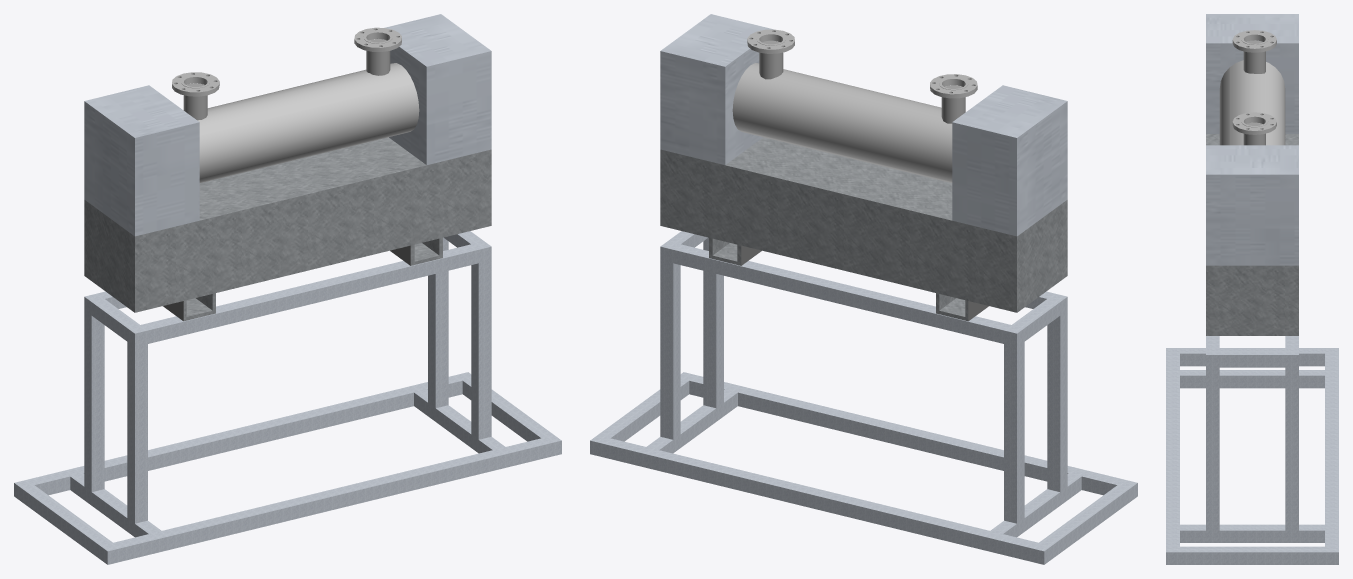
File: stage4_1.glb
The picture shows the model from 3 angles, left to right: view 1: azimuth 30°, elevation 25°; view 2: azimuth 150°, elevation 25°; view 3: azimuth 270°, elevation 25°; orthographic projection. The views are drawn at different scales.
Parts seen in each view (by area): view 1: object 2, object 1, RFSO#2 (×2); view 2: object 2, object 1, RFSO#2 (×2), object 5; view 3: object 2, object 1, RFSO#2 (×2), object 3, object 5.
Boxes of the visible parts, x1,y1,x2,y2 form: object 2: (84, 14, 491, 321); object 1: (14, 231, 561, 564); RFSO#2 (×2): (172, 27, 401, 96); object 2: (660, 14, 1067, 321); object 1: (590, 231, 1137, 564); RFSO#2 (×2): (747, 29, 977, 98); object 5: (759, 40, 783, 79); object 2: (1206, 14, 1298, 335); object 1: (1166, 336, 1338, 564); RFSO#2 (×2): (1232, 30, 1276, 134); object 3: (1243, 40, 1265, 73); object 5: (1243, 122, 1265, 145).
Bounding box in the file's own units: 1.4 × 1.22 × 0.5.
Materials: 6 (2 with a texture image).
